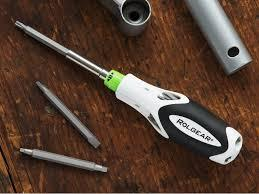screwdriver: (98, 65, 243, 166), (13, 19, 107, 77), (72, 114, 101, 148), (18, 145, 56, 165), (34, 79, 57, 104), (80, 158, 109, 174)
